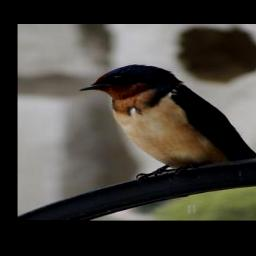Swallow: (77, 63, 256, 183)
